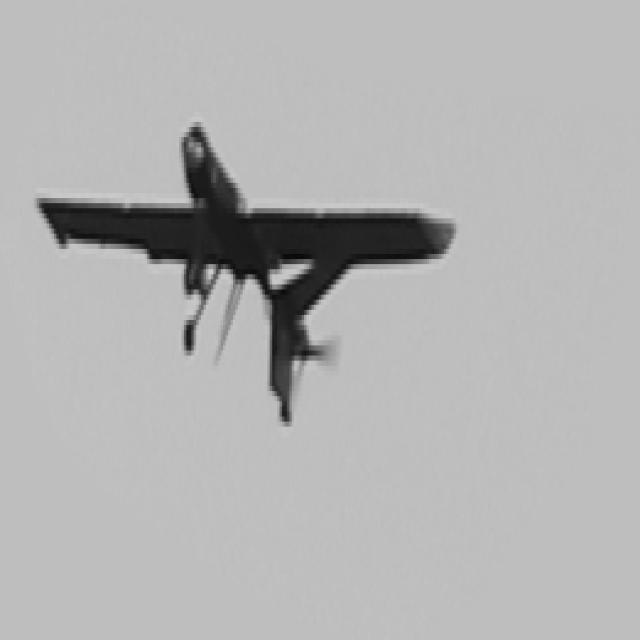iha: (39, 63, 451, 417)
